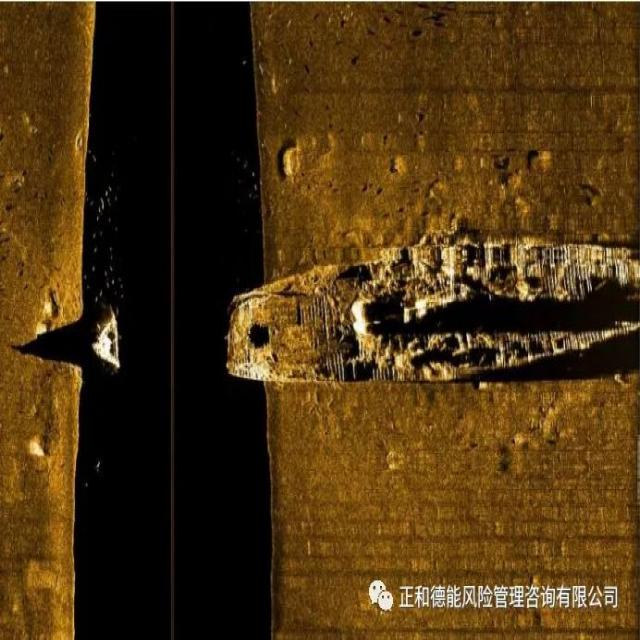ship: (221, 228, 639, 386)
